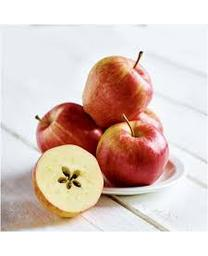apple: (80, 51, 153, 128), (31, 143, 103, 218), (95, 120, 168, 187), (37, 102, 102, 154)
